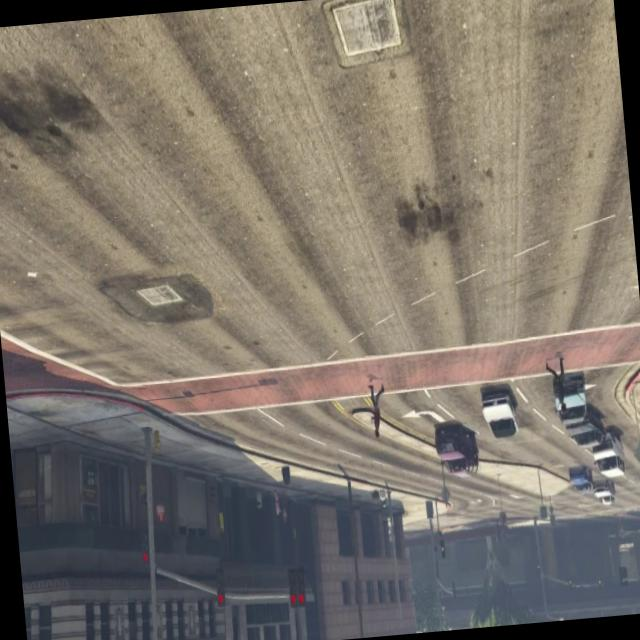Red-Signal: (282, 562, 310, 612), (132, 516, 154, 575), (209, 566, 230, 616)
